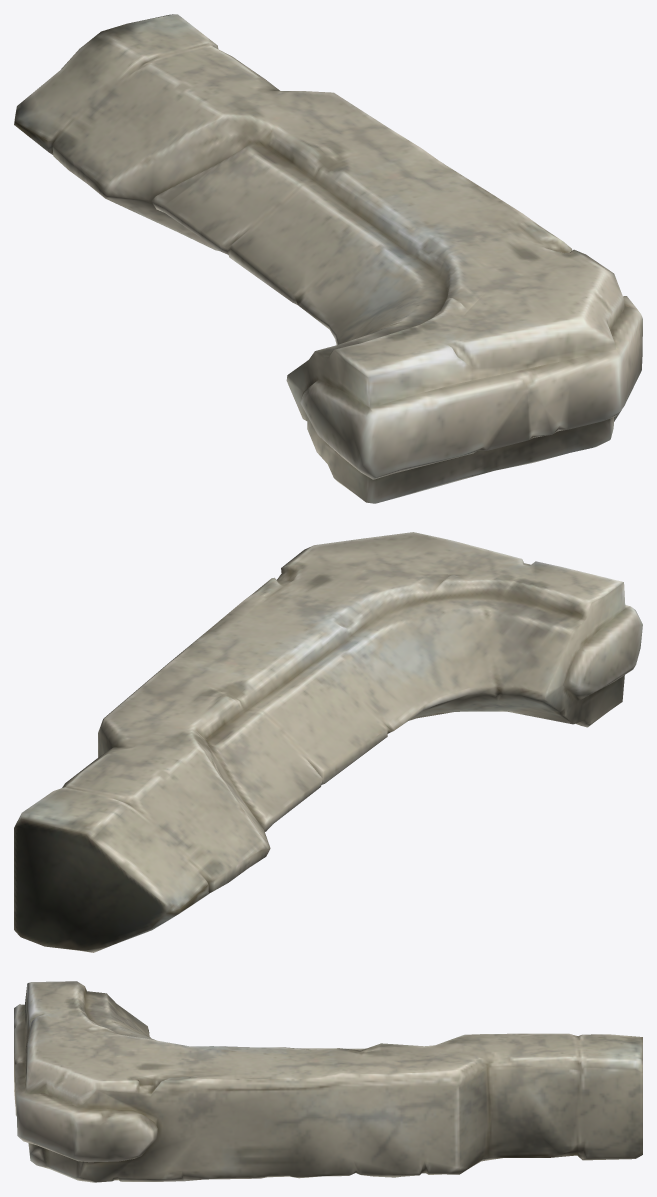
Rendered from Vd_Vulgrim_Pillar_A.fbx.
3 renders of one model, top to bottom at view 1: azimuth 30°, elevation 25°; view 2: azimuth 150°, elevation 25°; view 3: azimuth 270°, elevation 25°, orthographic. The views are drawn at different scales.
Parts seen in each view (by area): view 1: Vd_Vulgrim_Pillar_A; view 2: Vd_Vulgrim_Pillar_A; view 3: Vd_Vulgrim_Pillar_A.
Boxes of the visible parts, x1=… form: Vd_Vulgrim_Pillar_A: x1=14, y1=14, x2=642, y2=503; Vd_Vulgrim_Pillar_A: x1=14, y1=532, x2=642, y2=952; Vd_Vulgrim_Pillar_A: x1=14, y1=981, x2=642, y2=1182.
Bounding box in the file's own units: 416 × 181 × 964.
